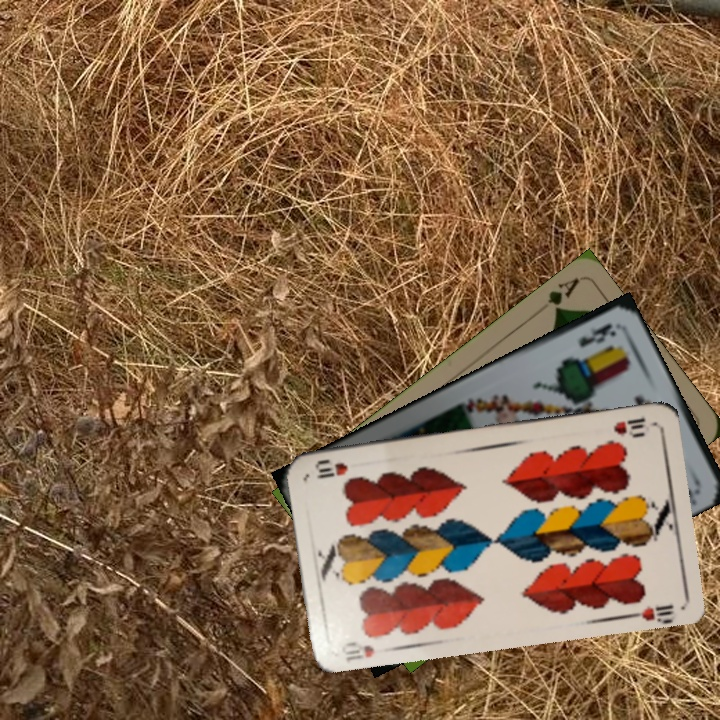EK: (575, 319, 618, 350)
GA: (543, 274, 581, 316)
H10: (337, 638, 377, 664), (609, 414, 648, 438)
